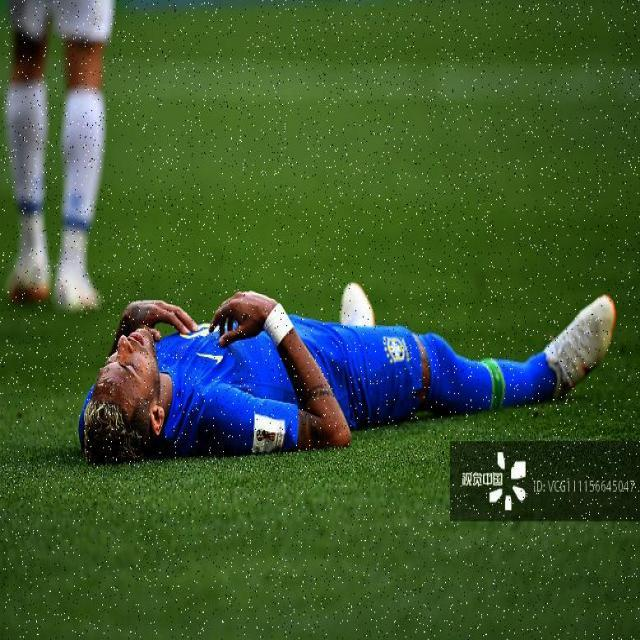fall: (79, 235, 606, 470)
